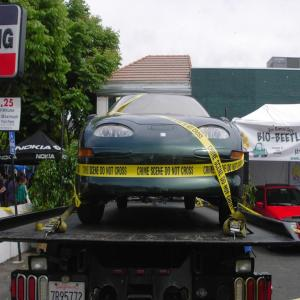Vehicle-registration-plate: (49, 281, 85, 300)
